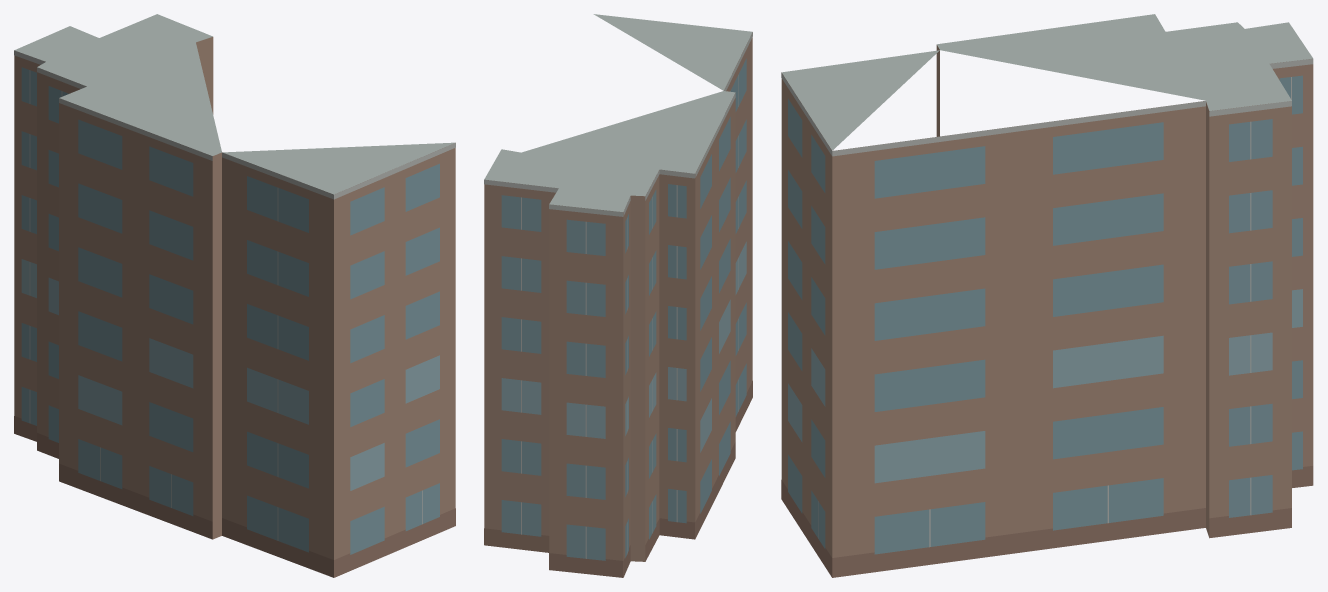
File: survey-upis-32885670.glb
3 views of the same model, side by side, from view 1: azimuth 30°, elevation 25°; view 2: azimuth 150°, elevation 25°; view 3: azimuth 270°, elevation 25° (orthographic). The views are drawn at different scales.
Parts seen in each view (by area): view 1: survey-upis-32885670.tmp; view 2: survey-upis-32885670.tmp; view 3: survey-upis-32885670.tmp.
Boxes of the visible parts, x1,y1,x2,y2 form: survey-upis-32885670.tmp: (14,14,455,577); survey-upis-32885670.tmp: (484,14,752,577); survey-upis-32885670.tmp: (781,14,1313,577).
Bounding box in the file's own units: 12.9 × 18.75 × 21.18.
